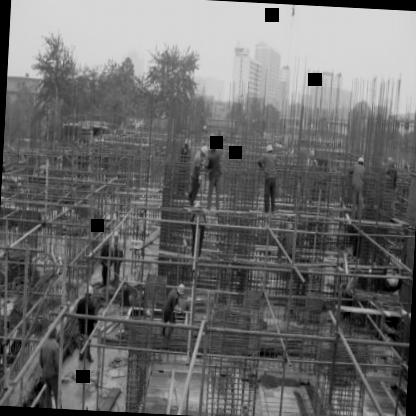helmet: (43, 318, 62, 341), (172, 280, 188, 298), (194, 142, 210, 160), (207, 139, 220, 158), (82, 282, 96, 298), (356, 154, 367, 172), (262, 142, 274, 157)
